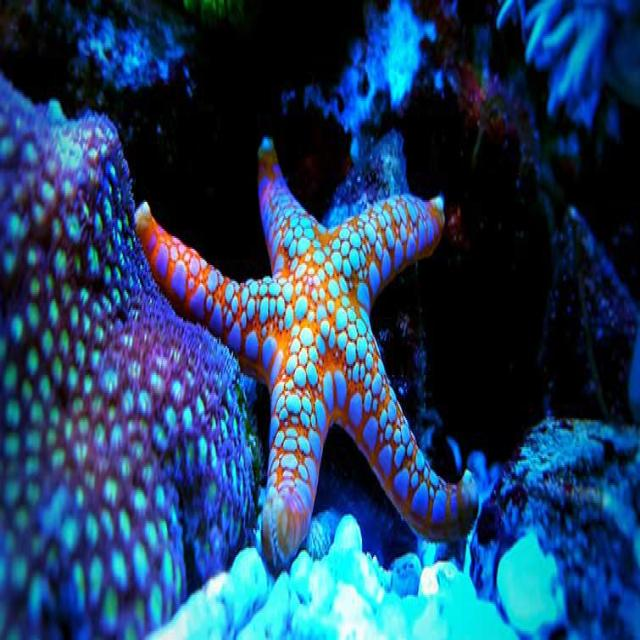starfish: (136, 141, 477, 559)
